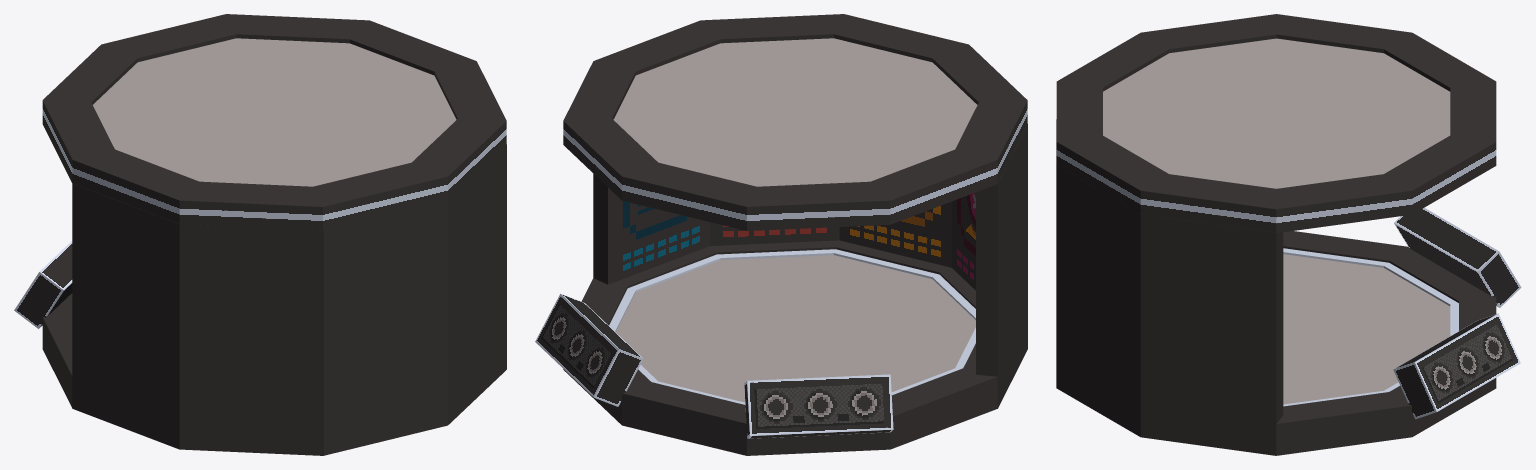
The model's file is fd16d4bc-8d64-42d4-ba70-aca8de3938ef.gltf.
The picture shows the model from 3 angles, left to right: view 1: azimuth 30°, elevation 25°; view 2: azimuth 150°, elevation 25°; view 3: azimuth 270°, elevation 25°; orthographic projection.
Parts seen in each view (by area): view 1: BG 4-Local, BG 3-Local, Ceiling 4-Local, BG 5-Local, Ceiling 1-Local, Ceiling 2-Local, Ceiling 5-Local, Ceiling 3-Local, BG 2-Local, Speaker 1-Local, Stage 1-Local; view 2: Ceiling 1-Local, Stage 5-Local, Ceiling 4-Local, Ceiling 5-Local, Ceiling 2-Local, Stage 3-Local, Stage 1-Local, Ceiling 3-Local, BG 5-Local, Stage 2-Local, Speaker 1-Local, BG 1-Local (+5 smaller); view 3: BG 1-Local, Ceiling 1-Local, Ceiling 4-Local, Ceiling 3-Local, Ceiling 5-Local, BG 2-Local, Ceiling 2-Local, Stage 5-Local, Stage 1-Local, Speaker 2-Local, Speaker 1-Local, Stage 3-Local (+2 smaller).
Boxes of the visible parts, x1,y1,x2,y2 form: BG 4-Local: [179, 224, 322, 455]; BG 3-Local: [323, 200, 447, 455]; Ceiling 4-Local: [179, 14, 369, 230]; BG 5-Local: [72, 183, 179, 449]; Ceiling 1-Local: [42, 61, 506, 183]; Ceiling 2-Local: [43, 44, 506, 199]; Ceiling 5-Local: [72, 20, 476, 223]; Ceiling 3-Local: [102, 14, 447, 230]; BG 2-Local: [448, 144, 506, 424]; Speaker 1-Local: [14, 241, 72, 328]; Stage 1-Local: [42, 314, 72, 407]; Ceiling 1-Local: [594, 20, 997, 224]; Stage 5-Local: [581, 278, 975, 375]; Ceiling 4-Local: [563, 44, 1027, 200]; Ceiling 5-Local: [563, 61, 1027, 182]; Ceiling 2-Local: [701, 14, 890, 230]; Stage 3-Local: [622, 240, 954, 455]; Stage 1-Local: [608, 245, 997, 449]; Ceiling 3-Local: [622, 14, 968, 230]; BG 5-Local: [976, 124, 1027, 408]; Stage 2-Local: [705, 240, 890, 455]; Speaker 1-Local: [744, 374, 893, 438]; BG 1-Local: [593, 174, 709, 284]; BG 1-Local: [1140, 214, 1283, 455]; Ceiling 1-Local: [1140, 14, 1411, 232]; Ceiling 4-Local: [1057, 32, 1496, 214]; Ceiling 3-Local: [1056, 81, 1496, 145]; Ceiling 5-Local: [1141, 14, 1412, 233]; BG 2-Local: [1056, 165, 1140, 436]; Ceiling 2-Local: [1056, 33, 1495, 213]; Stage 5-Local: [1276, 239, 1412, 455]; Stage 1-Local: [1283, 231, 1410, 404]; Speaker 2-Local: [1393, 313, 1520, 419]; Speaker 1-Local: [1394, 207, 1521, 307]; Stage 3-Local: [1331, 296, 1496, 360].
Size of the model in its own units: 210 by 124 by 212.
17 materials, 17 textured.
